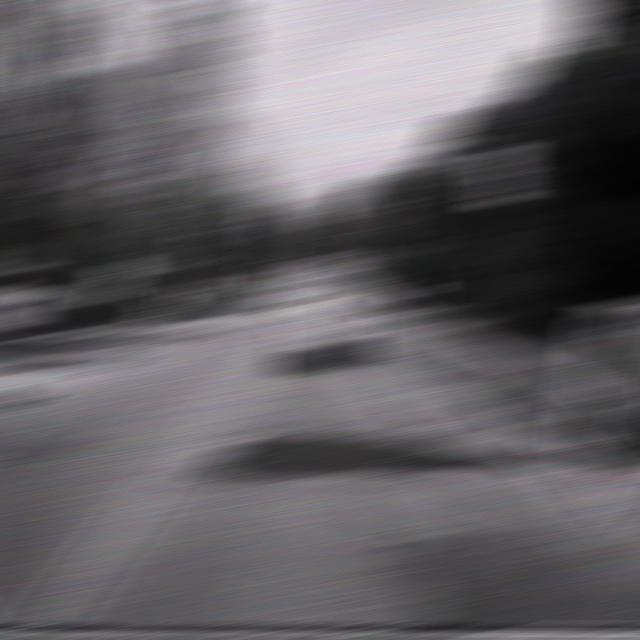speedLimit30: (476, 147, 525, 204)
